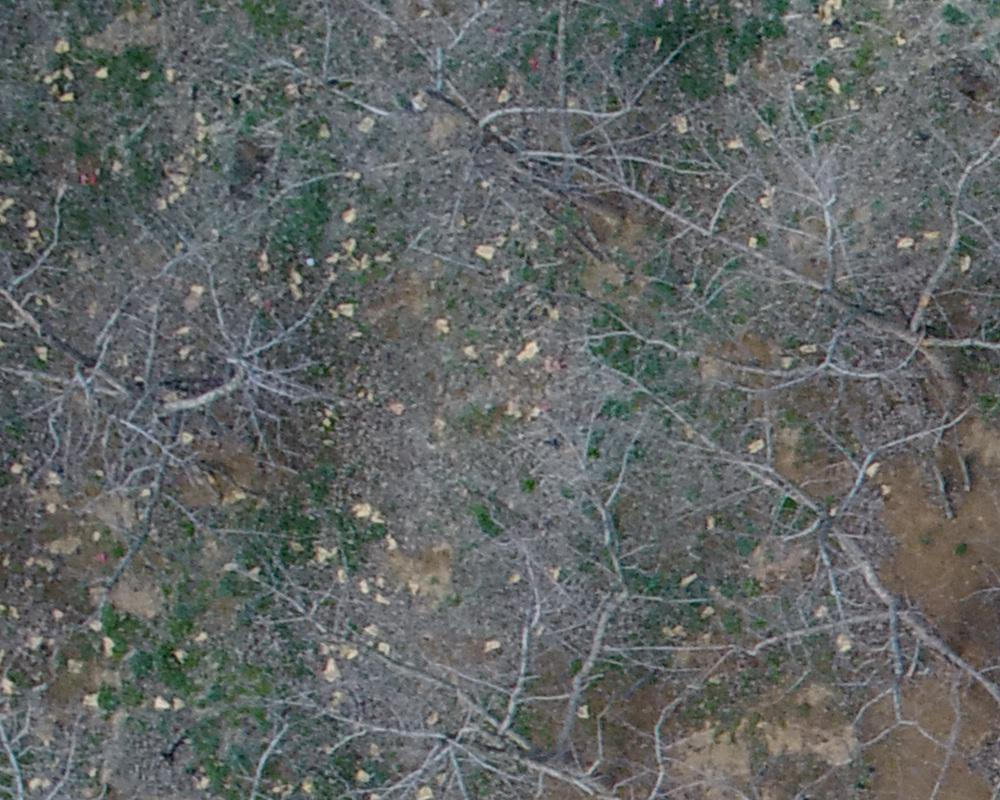apple: (594, 360, 990, 758), (10, 167, 369, 567), (646, 41, 990, 444), (247, 10, 734, 270), (260, 538, 705, 790)
